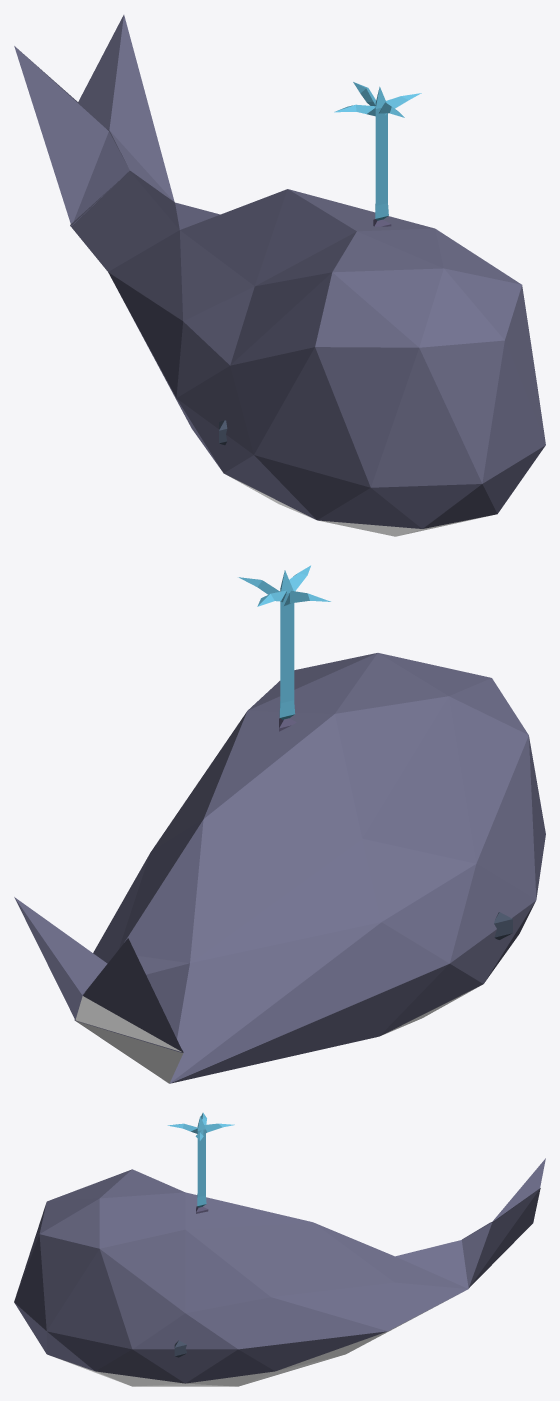
The model's file is whale.glb.
3 views of the same model, one above another, from view 1: azimuth 30°, elevation 25°; view 2: azimuth 150°, elevation 25°; view 3: azimuth 270°, elevation 25° (orthographic). The views are drawn at different scales.
Visible parts, largest first — view 1: Icosphere.001, Sphere.003; view 2: Icosphere.001, Sphere.003; view 3: Icosphere.001, Sphere.003.
Boxes of the visible parts, x1,y1,x2,y2 form: Icosphere.001: [14, 15, 545, 536]; Sphere.003: [375, 86, 388, 220]; Icosphere.001: [14, 653, 545, 1083]; Sphere.003: [279, 570, 295, 719]; Icosphere.001: [14, 1158, 545, 1386]; Sphere.003: [197, 1116, 206, 1207].
Size of the model in its own units: 19.64 by 25.08 by 44.39.
